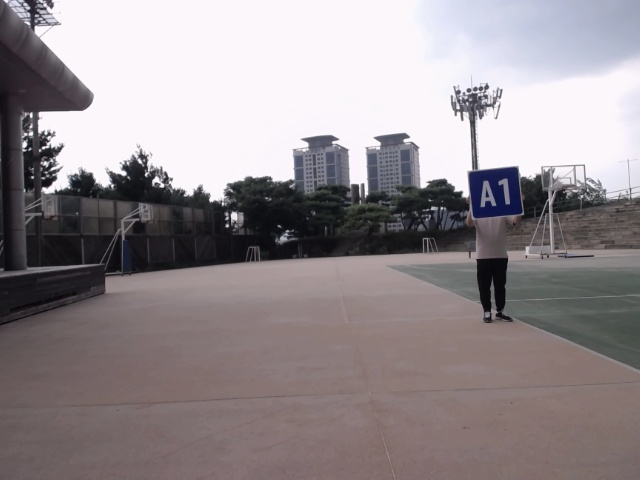delivery_a1: (468, 166, 522, 219)
